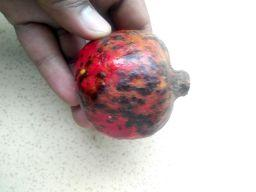pomegranate: (74, 29, 191, 141)
